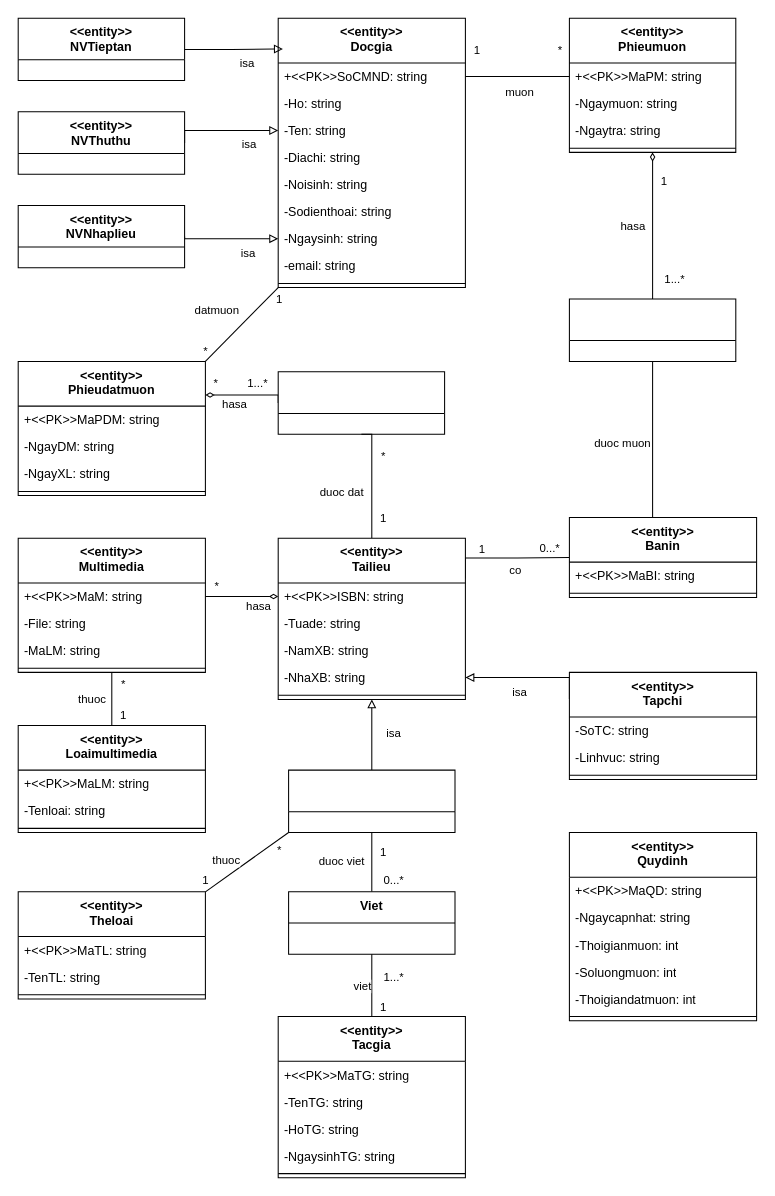
The diagram is 775 pixels wide and 1196 high, and some of its shapes have lost their labels. The centre of each missing label's shape, as x and y in pixels:
"<<entity>> CTPhieudatmuon" goes at [361,402].
"<<entity>> CTPhieumuon" goes at [652,329].
"<<entity>> Sach" goes at [371,801].
